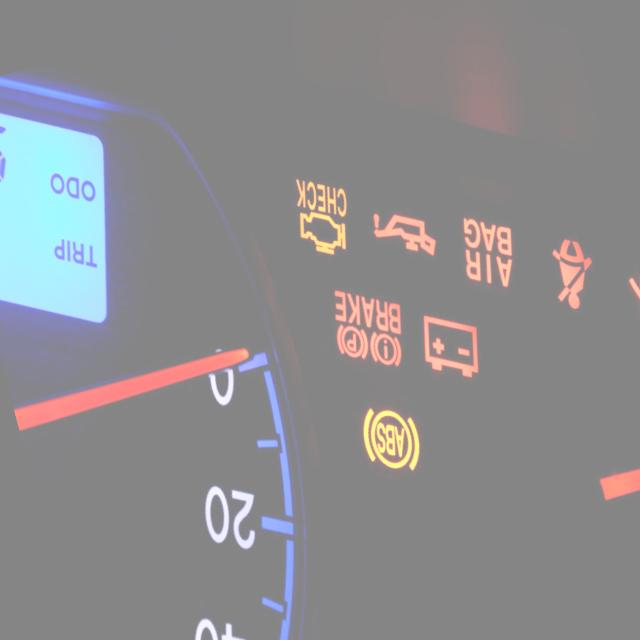kontrolka: (268, 146, 370, 282), (346, 386, 441, 501), (356, 171, 446, 281), (408, 295, 498, 401), (328, 316, 372, 372), (366, 322, 409, 376)
